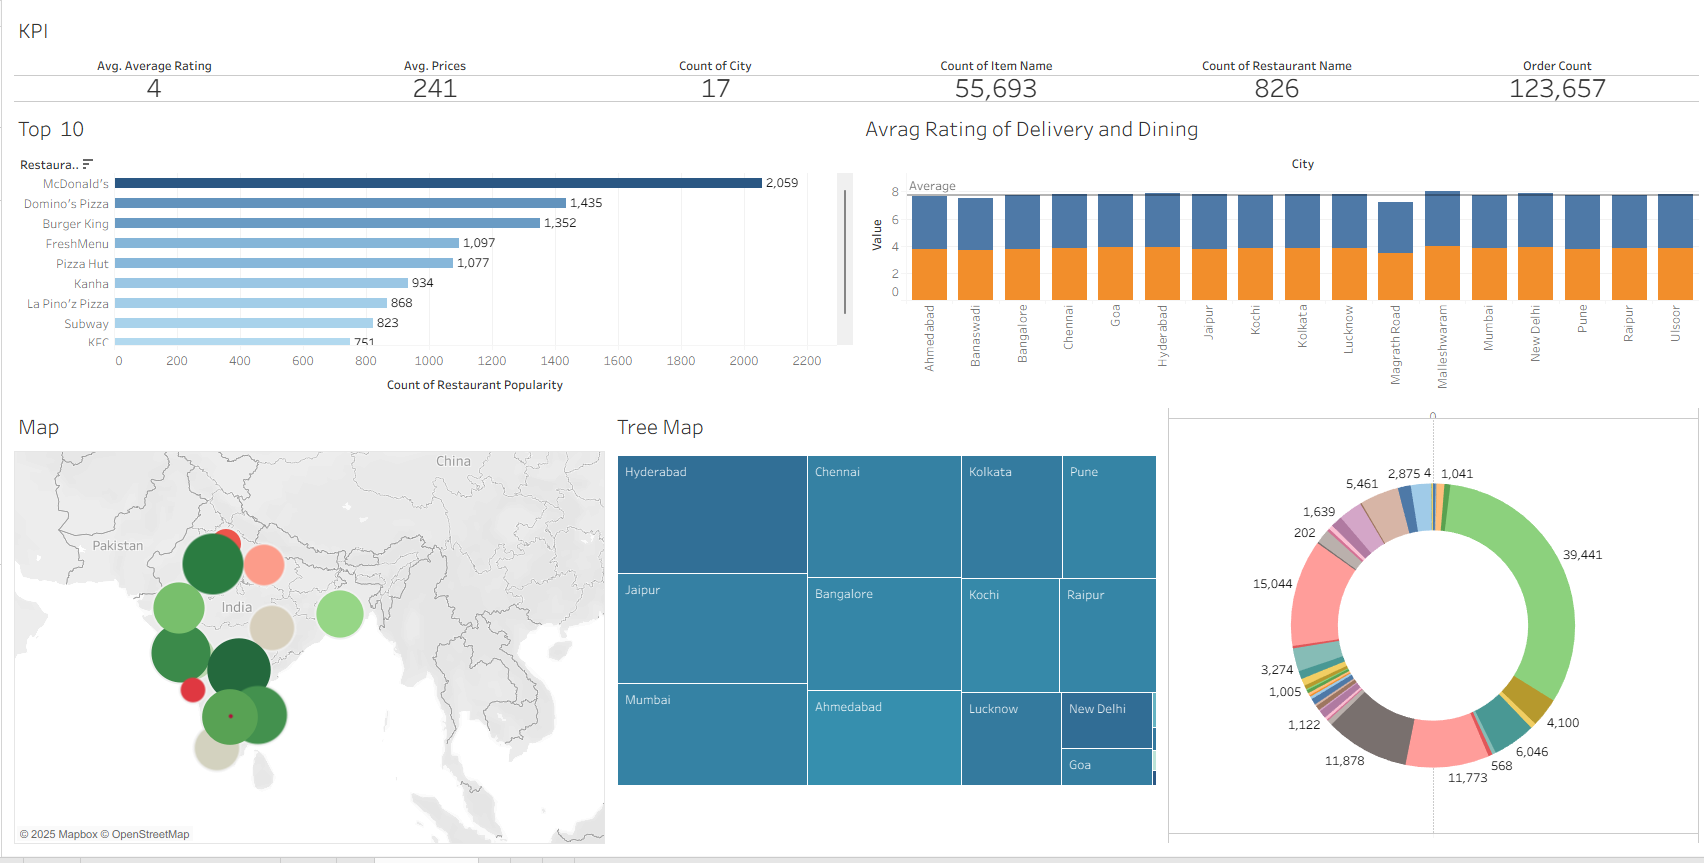

The dashboard page shown, as its layout file describes it:
{"tool":"tableau","page":{"name":"Dashboard 1","canvas":[1000,1000],"units":"permille","ordinal":0},"visuals":[{"type":"worksheet","title":"KPI","mark":"Automatic","box":[4.7,9.3,990.6,114.5]},{"type":"worksheet","title":"Top  10","mark":"Automatic","rows":["Restaurant_Name"],"cols":["Restaurant_Popularity"],"box":[4.7,123.8,495.3,348.1]},{"type":"worksheet","title":"Avrag Rating of Delivery and Dining ","mark":"Automatic","cols":["City"],"box":[500,123.8,495.3,348.1]},{"type":"worksheet","title":"Map","mark":"Automatic","box":[4.7,472,350.2,518.7]},{"type":"worksheet","title":"Tree Map","mark":"Automatic","box":[354.9,472,325,518.7]},{"type":"worksheet","title":"Cuisine","mark":"Pie","cols":["Calculation_402509254833418242","Calculation_402509254833459204"],"box":[680,472,315.4,518.7]}]}

Visuals, with their boxes on the dashboard's canvas, which has no fixed pixel size, in thousandths of its width and height (x1, y1, x2, y2). These are canvas units, not pixel positions in the 1704x863 screenshot, which may show the page scaled, cropped or inside an application window:
"KPI" worksheet: box=[5, 9, 995, 124]
"Top  10" worksheet: box=[5, 124, 500, 472]
"Avrag Rating of Delivery and Dining " worksheet: box=[500, 124, 995, 472]
"Map" worksheet: box=[5, 472, 355, 991]
"Tree Map" worksheet: box=[355, 472, 680, 991]
"Cuisine" worksheet (Pie marks): box=[680, 472, 995, 991]
